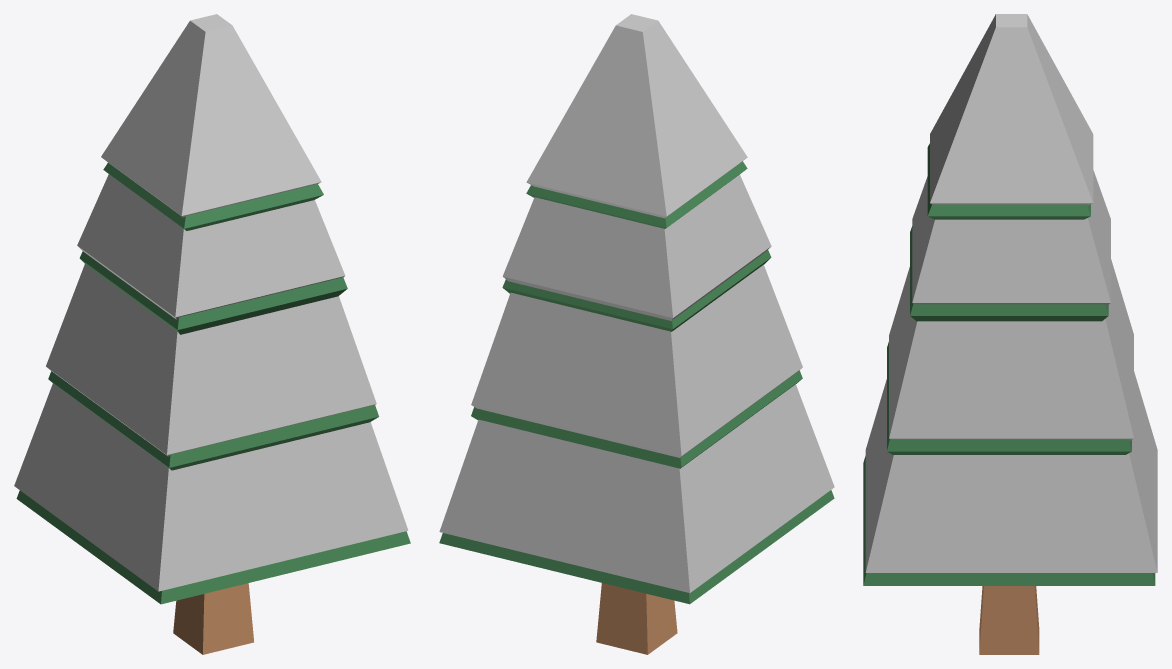
Rendered from Snowy Oak Tree.fbx.
3 renders of one model, left to right at view 1: azimuth 30°, elevation 25°; view 2: azimuth 150°, elevation 25°; view 3: azimuth 270°, elevation 25°, orthographic.
Parts seen in each view (by area): view 1: Leaves.001, Leaves, Trunk; view 2: Leaves.001, Leaves, Trunk; view 3: Leaves.001, Leaves, Trunk.
Part boxes in pixels (box(x1,y1,x2,y2)): Leaves.001: box(14, 14, 408, 591); Leaves: box(16, 162, 410, 604); Trunk: box(173, 583, 253, 654); Leaves.001: box(439, 14, 834, 592); Leaves: box(439, 161, 834, 604); Trunk: box(596, 583, 677, 654); Leaves.001: box(865, 14, 1157, 572); Leaves: box(863, 143, 1155, 585); Trunk: box(979, 586, 1039, 654).
Bounding box in the file's own units: 359 × 839 × 360.
